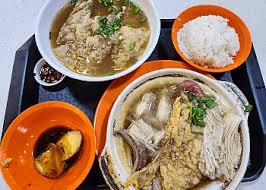Braised Crucian Carp: (98, 68, 249, 189), (34, 0, 157, 83), (170, 2, 252, 73)
